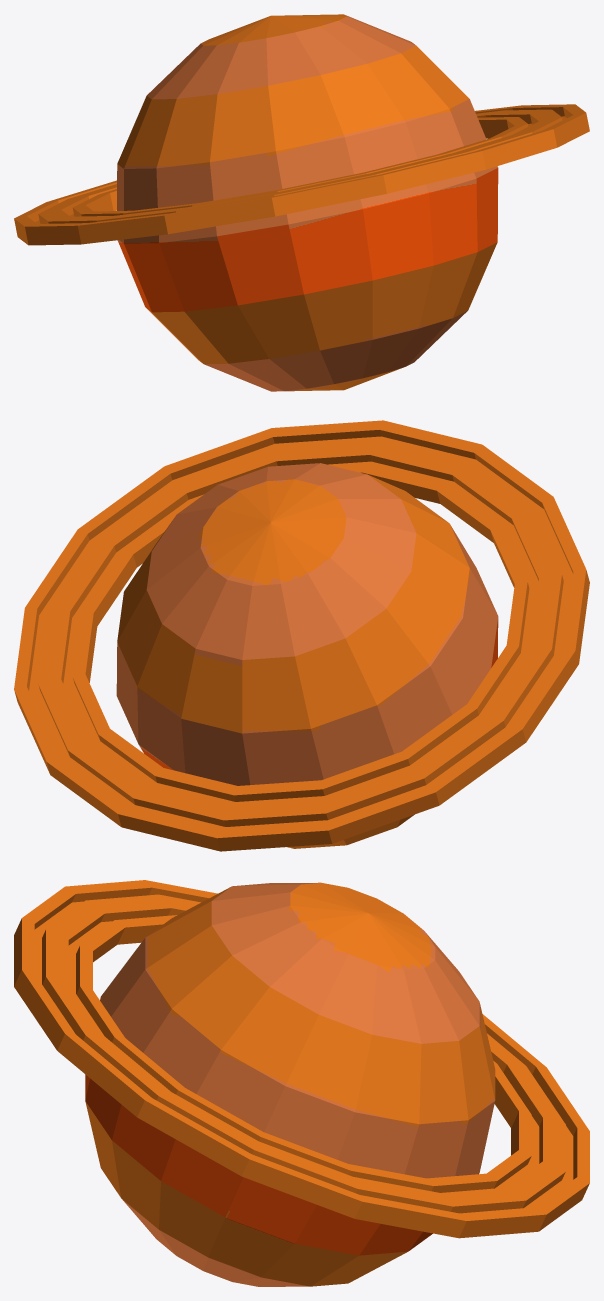
Rendered from low_poly_saturn.glb.
3 renders of one model, top to bottom at view 1: azimuth 30°, elevation 25°; view 2: azimuth 150°, elevation 25°; view 3: azimuth 270°, elevation 25°, orthographic. The views are drawn at different scales.
Visible parts, largest first — view 1: planet_0, circle_1; view 2: planet_0, circle_1; view 3: planet_0, circle_1.
Boxes of the visible parts, x1,y1,x2,y2 form: planet_0: (117,14,498,391); circle_1: (14,104,589,245); planet_0: (116,463,498,848); circle_1: (14,420,589,851); planet_0: (85,882,495,1286); circle_1: (14,880,589,1238).
Size of the model in its own units: 1.88 by 1.25 by 1.76.
2 materials, 2 textured.
